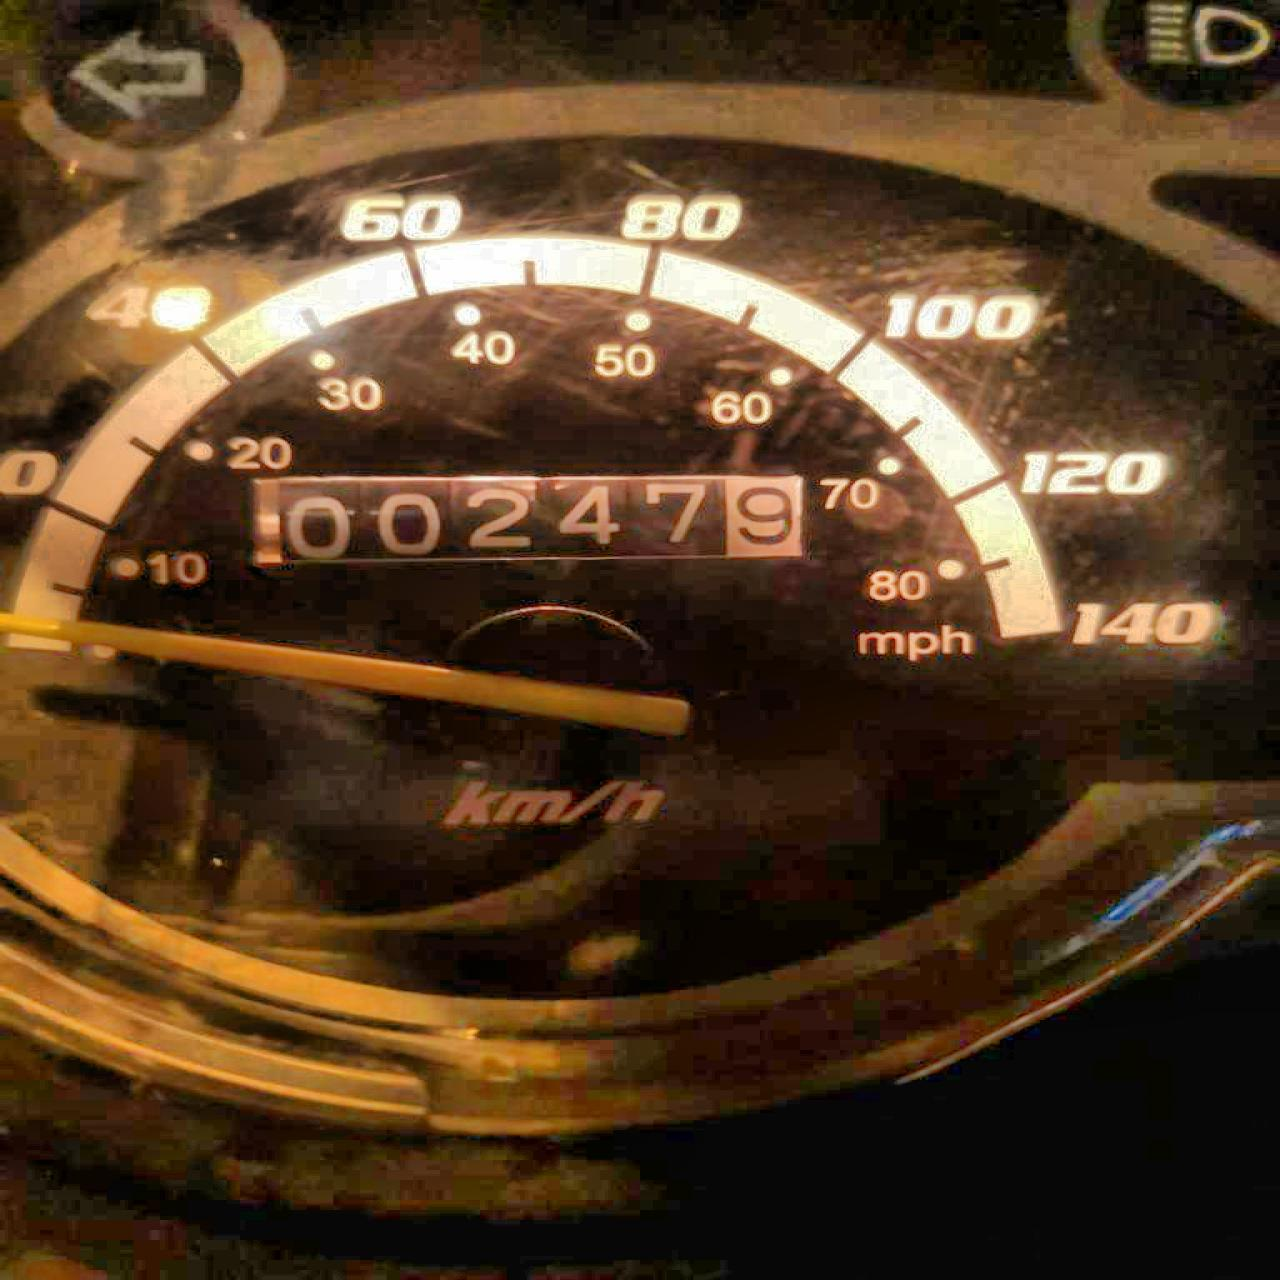0: (284, 488, 354, 563), (376, 486, 445, 556)
2: (458, 483, 532, 557)
4: (552, 481, 625, 546)
7: (640, 477, 710, 546)
9: (723, 477, 799, 552)
odometer: (241, 465, 818, 566)
